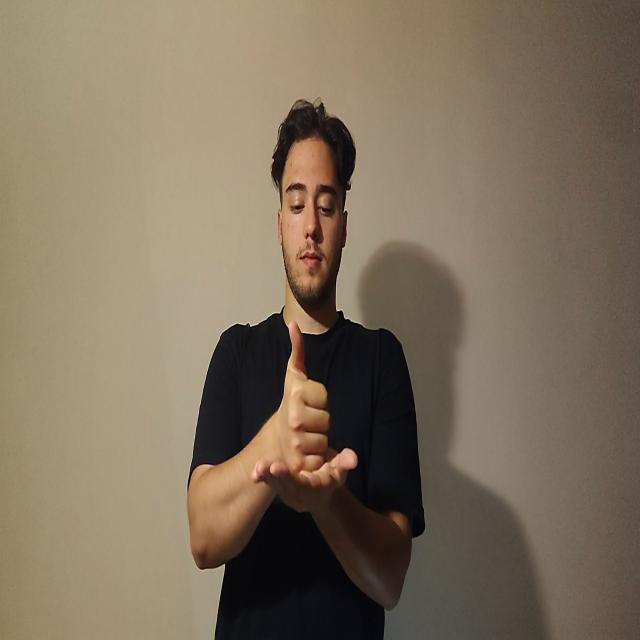help: (255, 324, 357, 512)
